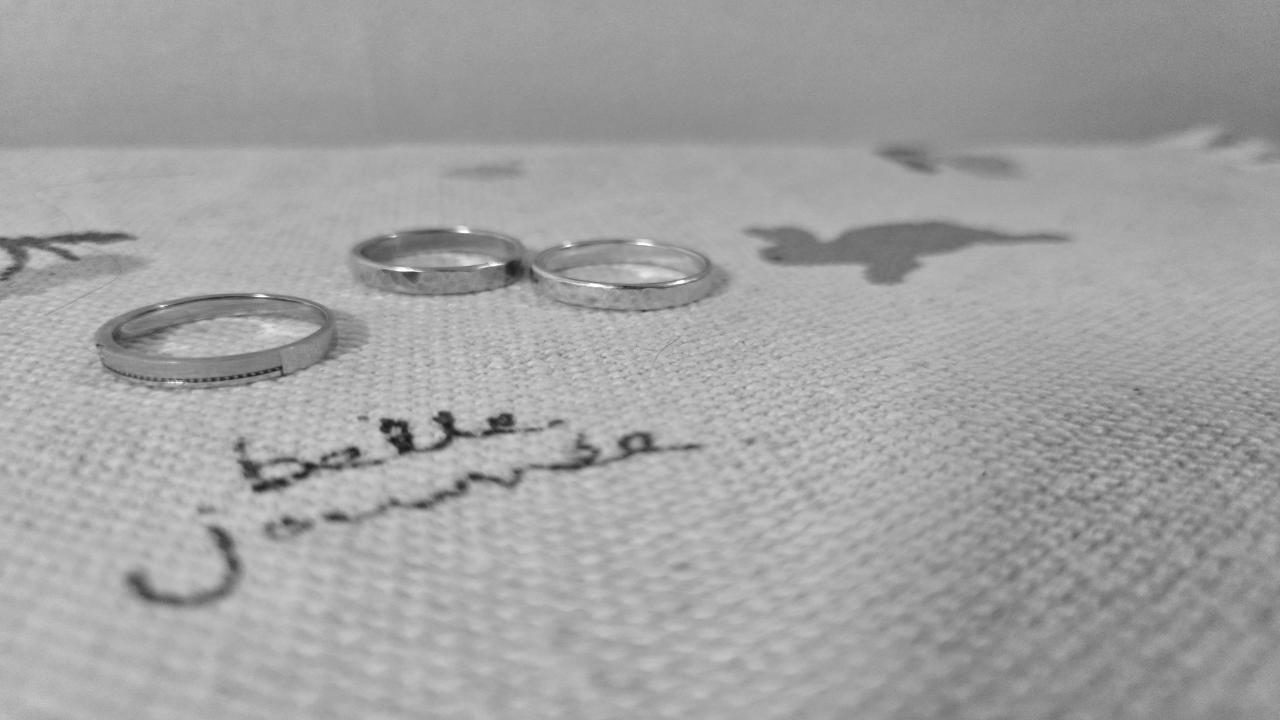ring: (94, 292, 336, 387), (529, 238, 716, 310), (347, 226, 529, 295)
